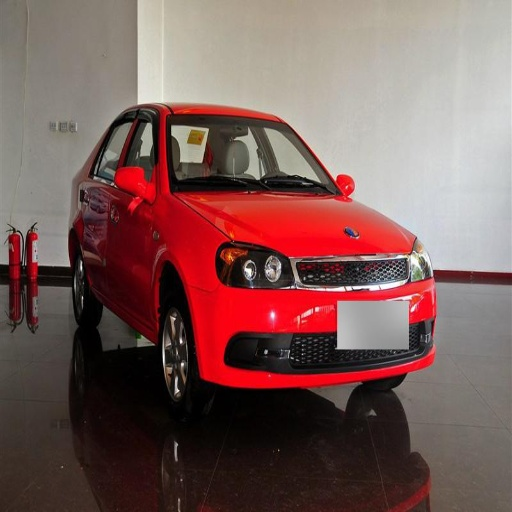front_bumper: (191, 253, 432, 388)
front_right_door: (108, 109, 161, 320)
front_right_light: (215, 239, 289, 288)
